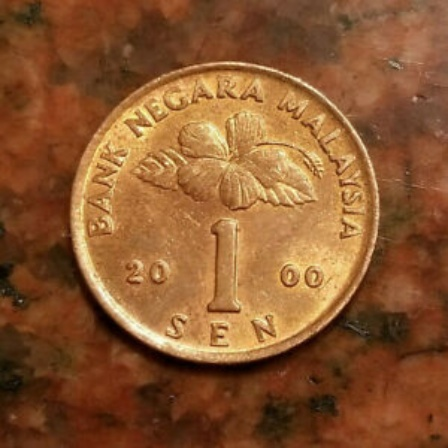1c: (69, 63, 378, 370)
